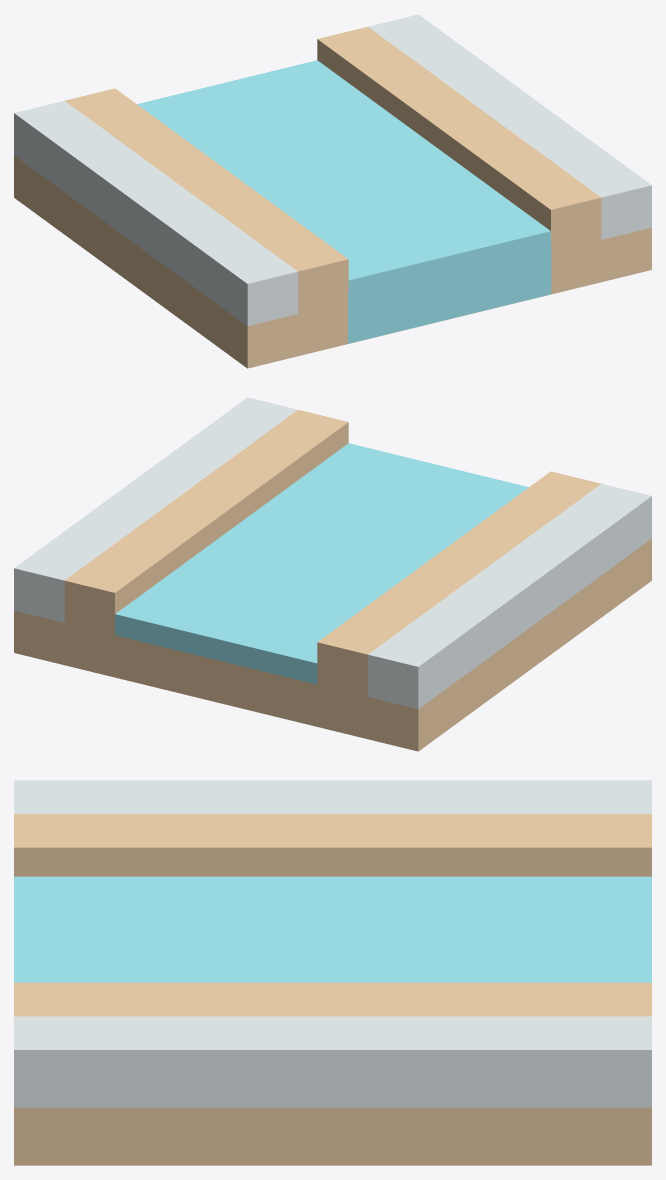
File: snow_tile_riverStraightEnd.fbx
The picture shows the model from 3 angles, top to bottom: view 1: azimuth 30°, elevation 25°; view 2: azimuth 150°, elevation 25°; view 3: azimuth 270°, elevation 25°; orthographic projection. The views are drawn at different scales.
Visible parts, largest first — view 1: snow_tile_riverStraight, Plane; view 2: snow_tile_riverStraight; view 3: snow_tile_riverStraight.
Boxes of the visible parts, x1,y1,x2,y2 form: snow_tile_riverStraight: (14, 14, 651, 368); Plane: (348, 242, 551, 343); snow_tile_riverStraight: (14, 397, 651, 751); snow_tile_riverStraight: (14, 780, 651, 1165).
Size of the model in its own units: 100 by 20 by 100.
